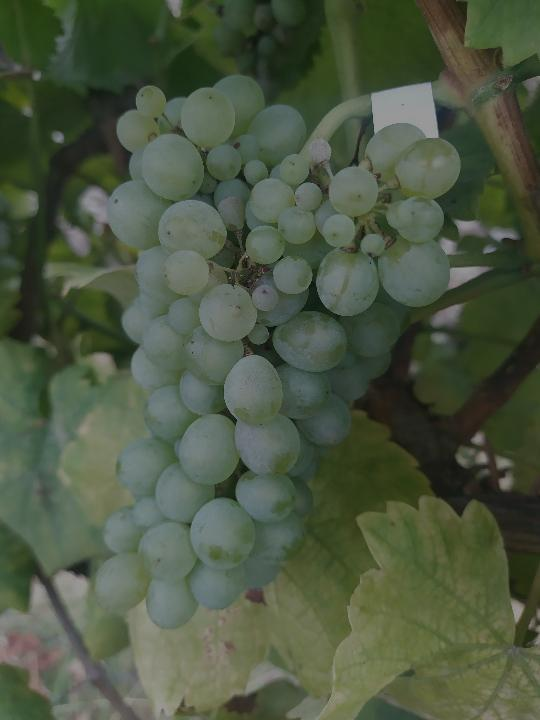grape: (92, 71, 463, 632)
